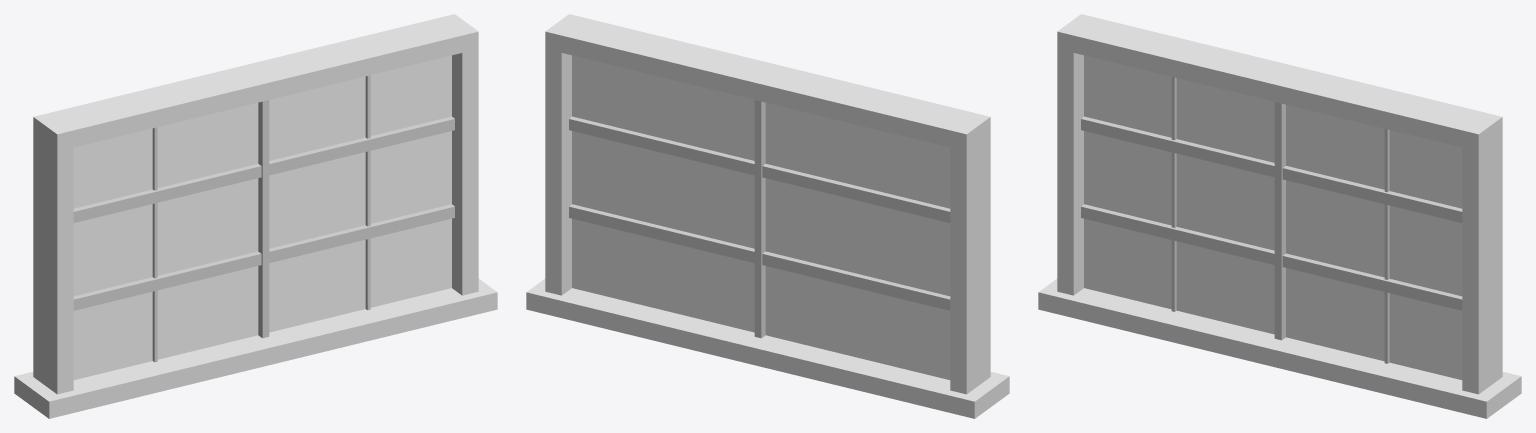
The model's file is window_012.fbx.
The picture shows the model from 3 angles, left to right: view 1: azimuth 30°, elevation 25°; view 2: azimuth 150°, elevation 25°; view 3: azimuth 330°, elevation 25°; orthographic projection.
Visible parts, largest first — view 1: window_012; view 2: window_012; view 3: window_012.
Part boxes in pixels (bbox=[...]): window_012: bbox=[14, 14, 497, 418]; window_012: bbox=[526, 14, 1009, 418]; window_012: bbox=[1038, 14, 1521, 418].
Bounding box in the file's own units: 318 × 42.75 × 188.
